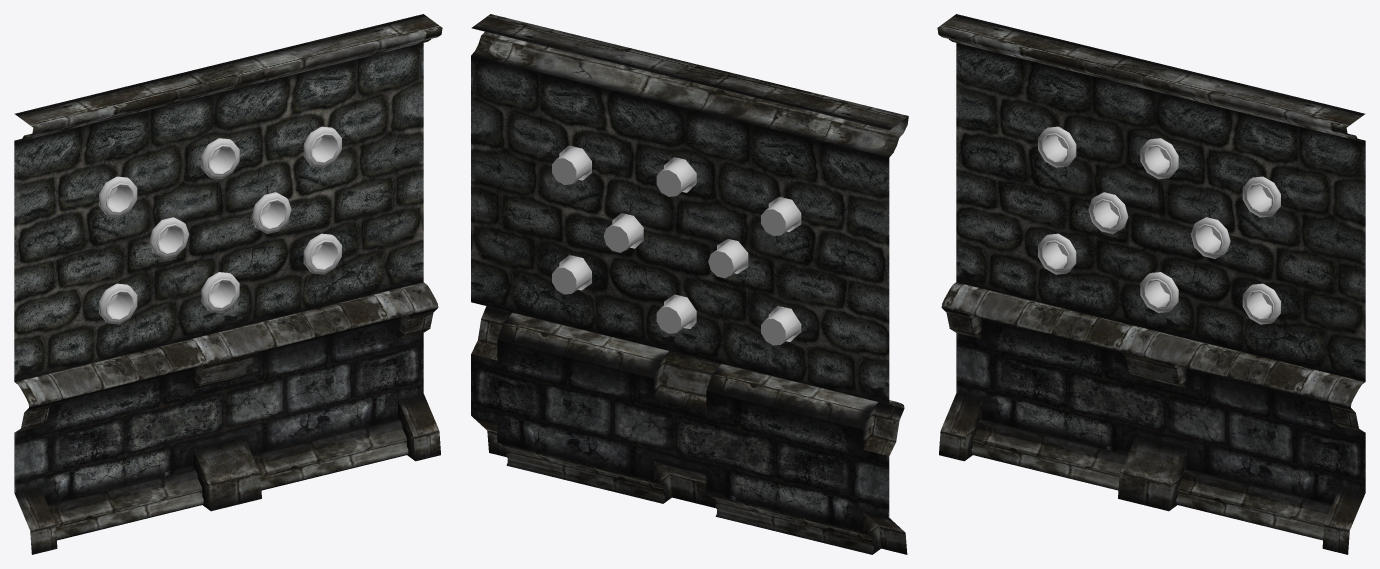
File: wall_control_pipe_holes.dae
3 renders of one model, left to right at view 1: azimuth 30°, elevation 25°; view 2: azimuth 150°, elevation 25°; view 3: azimuth 330°, elevation 25°, orthographic. The views are drawn at different scales.
Parts seen in each view (by area): view 1: castlebase_wall_controlpipe_holes, castlebase_wall_controlpipes; view 2: castlebase_wall_controlpipe_holes, castlebase_wall_controlpipes; view 3: castlebase_wall_controlpipe_holes, castlebase_wall_controlpipes.
Boxes of the visible parts, left/top/right/bottom form: castlebase_wall_controlpipe_holes: left=14, top=14, right=442, bottom=554; castlebase_wall_controlpipes: left=99, top=126, right=341, bottom=324; castlebase_wall_controlpipe_holes: left=471, top=14, right=908, bottom=554; castlebase_wall_controlpipes: left=552, top=145, right=801, bottom=345; castlebase_wall_controlpipe_holes: left=937, top=14, right=1365, bottom=554; castlebase_wall_controlpipes: left=1038, top=126, right=1280, bottom=324.
Size of the model in its own units: 4 by 4 by 0.5131.
